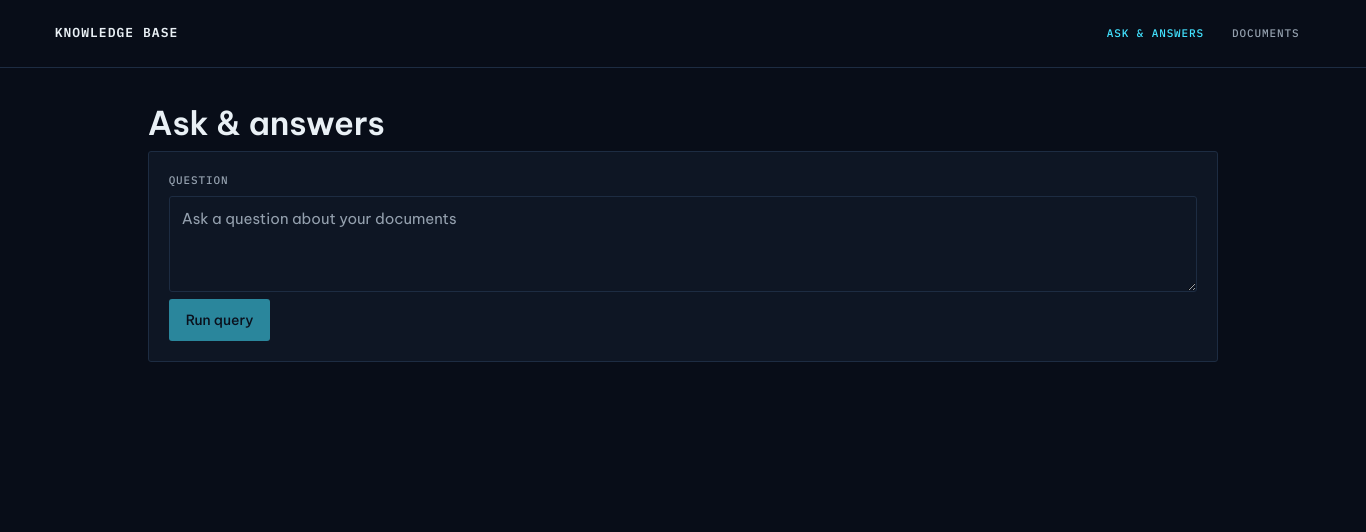
Test: App — delete a document › renders a labelled trash button for every document row
Click the link "Documents": [1266, 33] box [1232,26,1299,40]
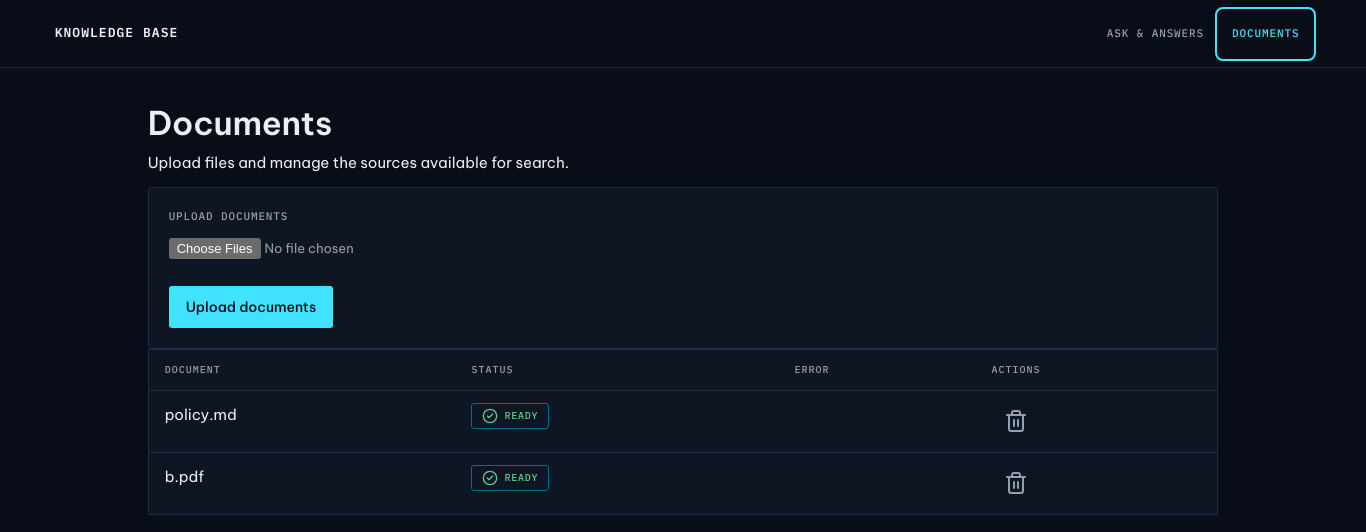
Now the button named "delete policy.md" is shown, box [992,403,1042,439]
Now the button named "delete b.pdf" is shown, box [992,465,1042,501]
